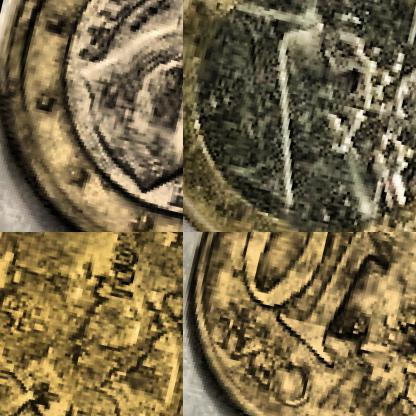coin: (183, 0, 415, 231), (183, 232, 415, 415), (0, 0, 182, 231), (0, 232, 182, 415)
